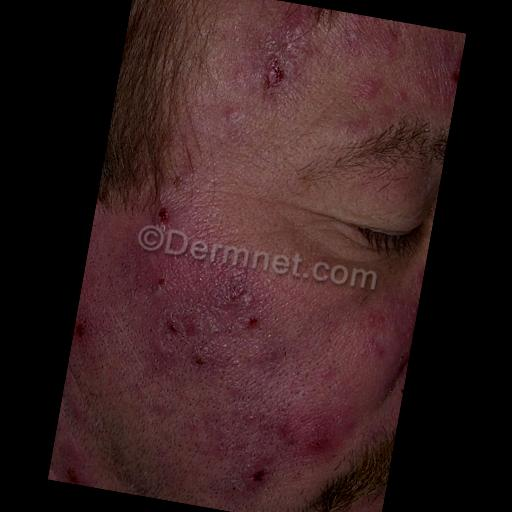Skin_Lesion: (410, 26, 465, 108), (235, 263, 274, 346), (246, 402, 300, 456), (268, 6, 320, 52), (156, 308, 206, 352), (140, 260, 184, 308), (300, 412, 338, 466), (232, 455, 279, 498), (343, 282, 386, 322), (55, 432, 88, 482), (351, 66, 387, 106), (259, 50, 287, 98), (188, 354, 223, 386), (70, 301, 90, 352), (153, 189, 174, 233), (214, 276, 244, 304), (171, 0, 218, 17)
